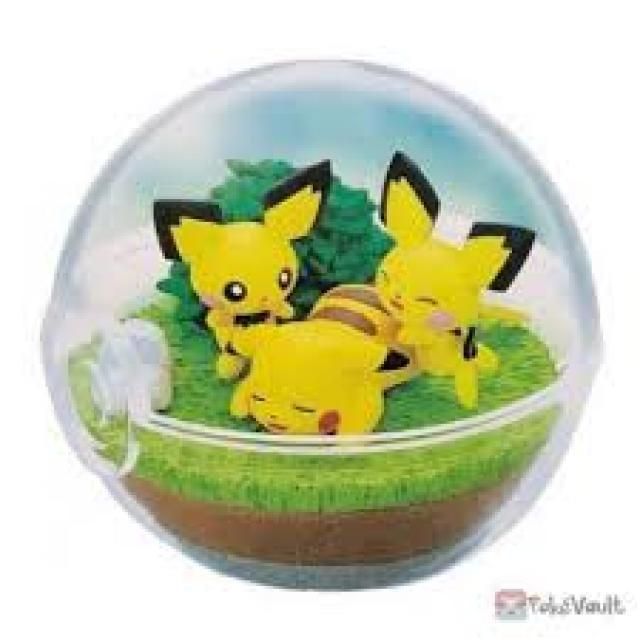pichu: (361, 148, 561, 418), (147, 160, 346, 380)
